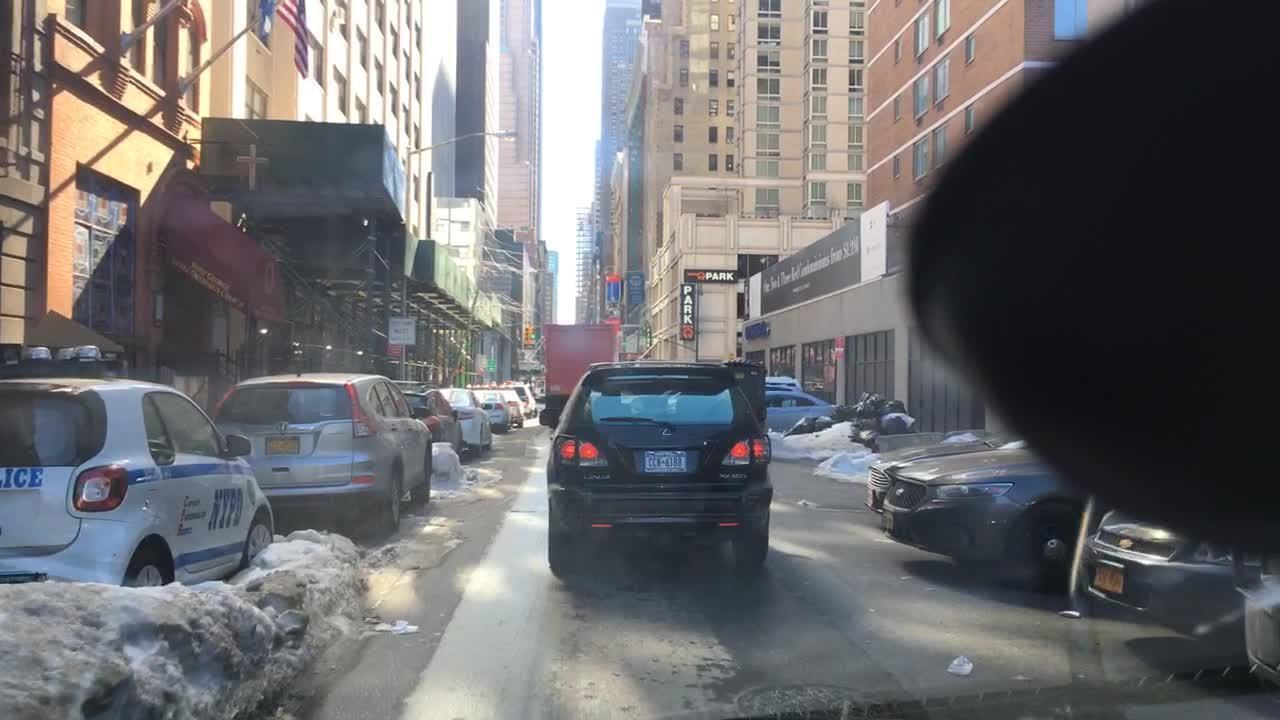Honda: (274, 420, 290, 437)
chevrolet: (1114, 533, 1136, 555)
lexus: (658, 425, 675, 442)
